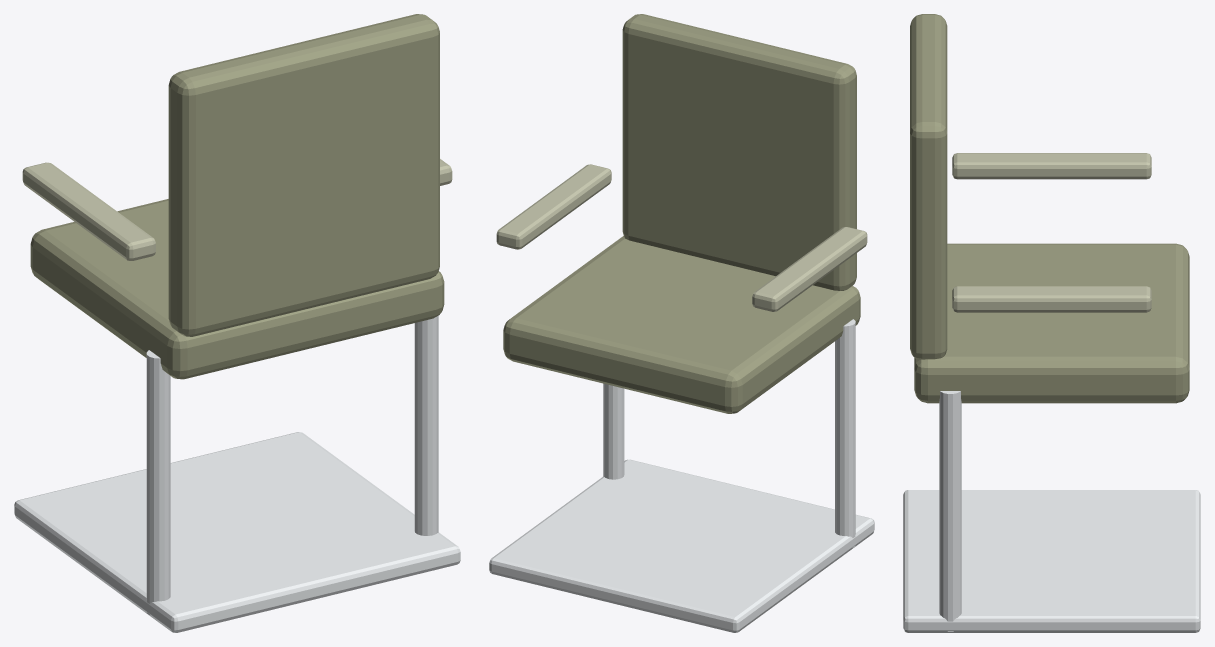
File: office_lounge_seating_reference_board_13.glb
The picture shows the model from 3 angles, left to right: view 1: azimuth 30°, elevation 25°; view 2: azimuth 150°, elevation 25°; view 3: azimuth 270°, elevation 25°; orthographic projection. The views are drawn at different scales.
Visible parts, largest first — view 1: Cube; view 2: Cube; view 3: Cube.
Part boxes in pixels (x1=…): Cube: x1=14, y1=14, x2=460, y2=632; Cube: x1=489, y1=14, x2=874, y2=632; Cube: x1=903, y1=14, x2=1200, y2=632.
Size of the model in its own units: 0.554 by 0.885 by 0.4756.
